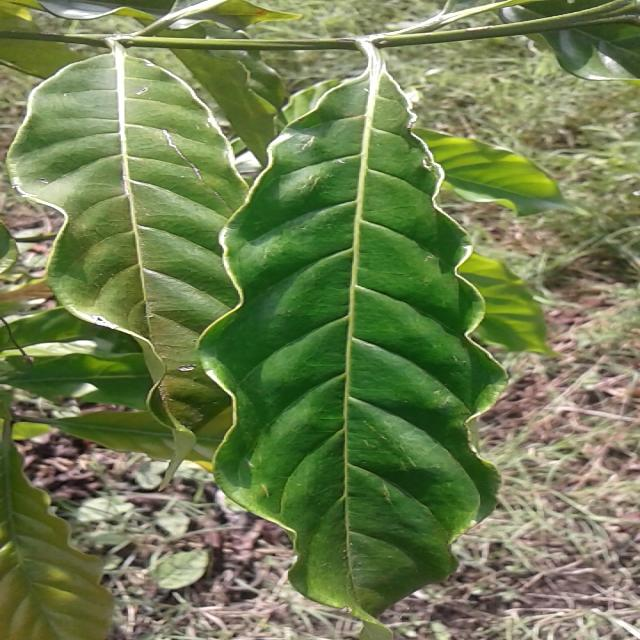Sanas: (213, 71, 507, 619)
